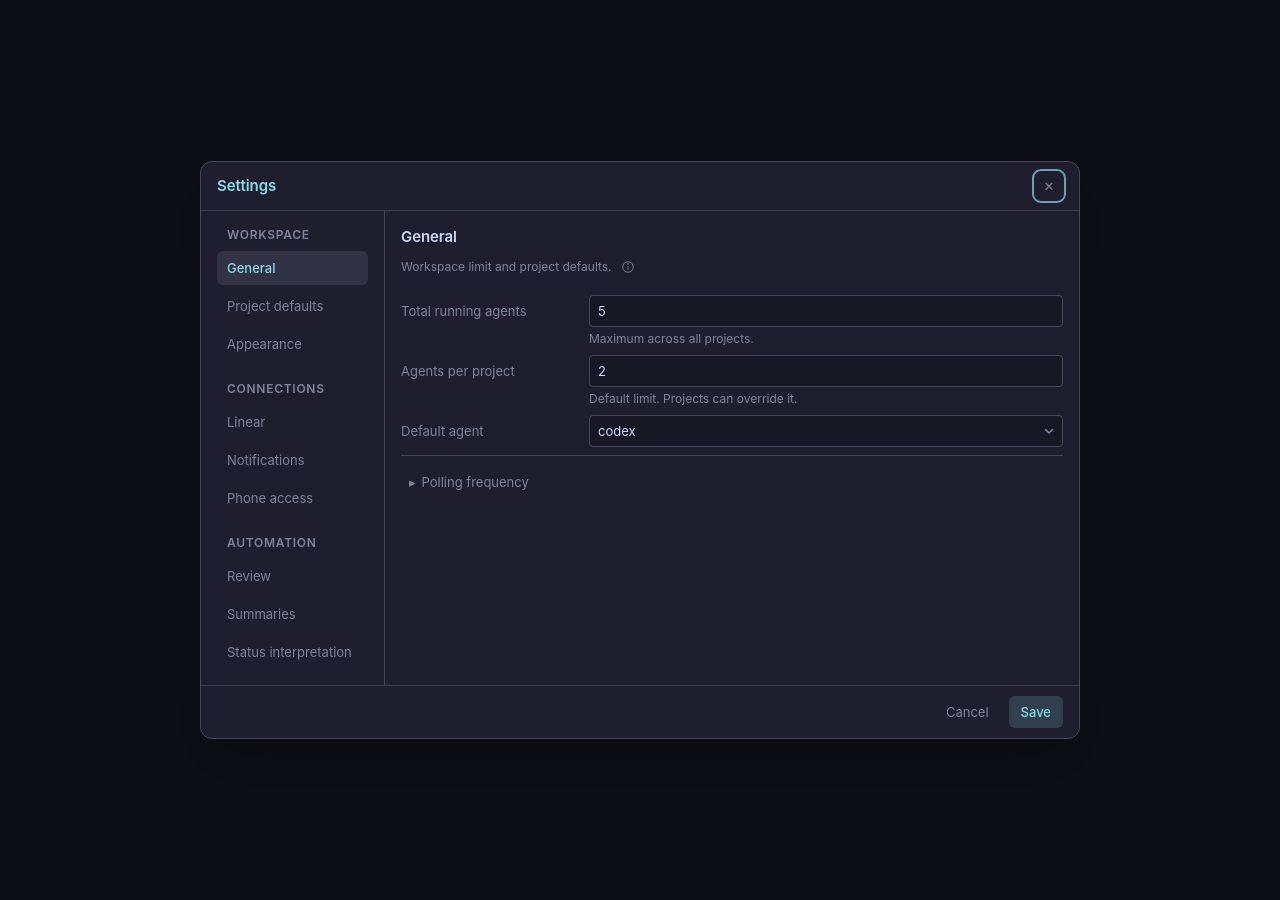
Scenario: SettingsForm › offers workspace-label pickers for all three [defaults] label keys
Click the tab "Project defaults": (292, 306) x1=217 y1=289 x2=368 y2=323
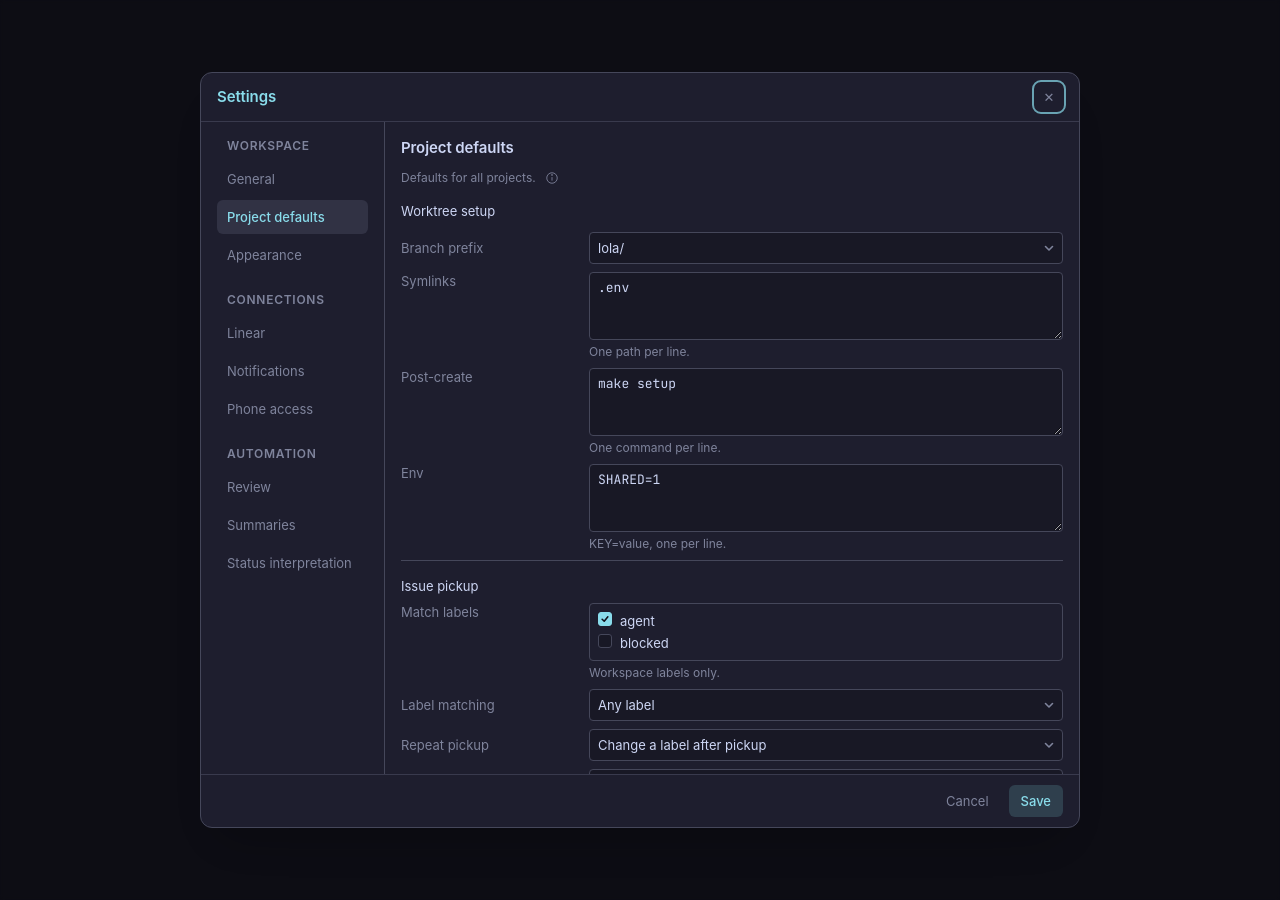
Now the text box labelled "Symlinks" holds ".env", box x1=589 y1=272 x2=1063 y2=340
Now the checkbox labelled "agent" is checked, box x1=598 y1=612 x2=612 y2=626
Now the checkbox labelled "blocked" is not checked, box x1=598 y1=634 x2=612 y2=648
